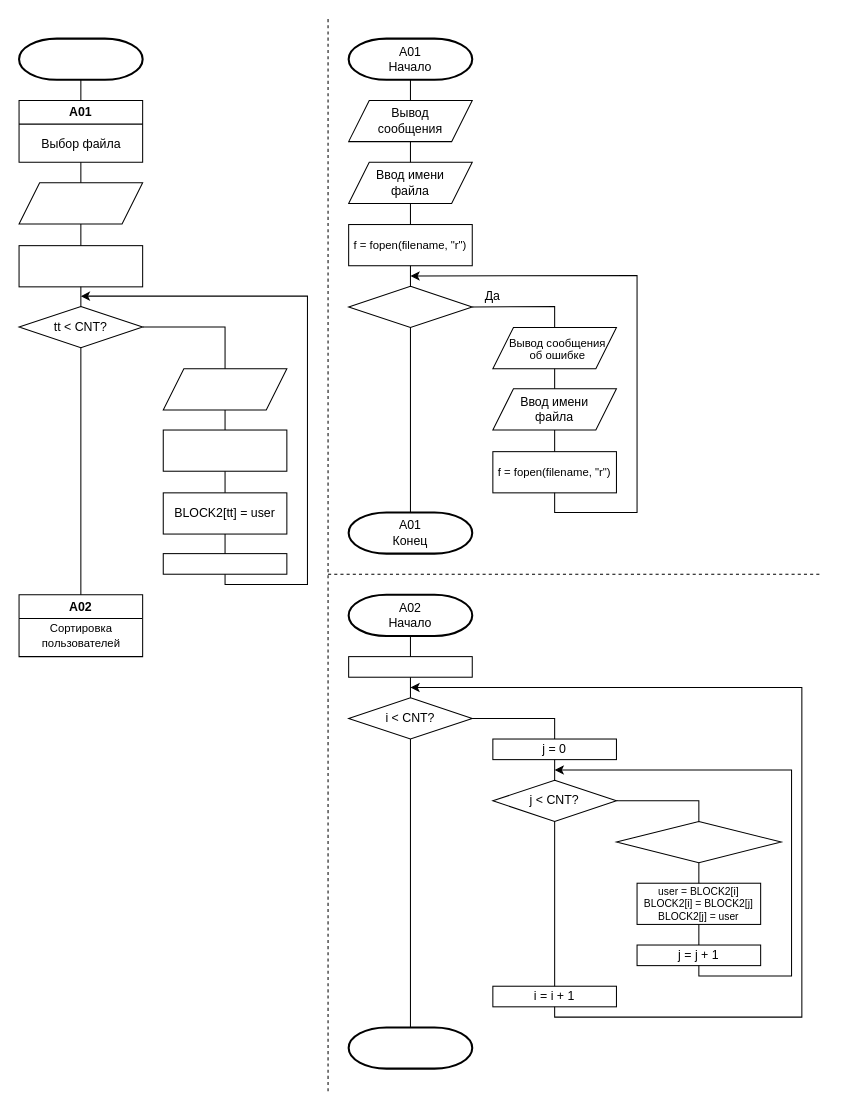
The diagram is 842 pixels wide and 1110 high, and some of its shapes have lost their labels. Here are the shapes that lost their labels. From the top down, the centre of each, then its label:
At point (80, 58): "Начало".
At point (80, 203): "Вывод описания программы".
At point (80, 266): "tt = 0, CNT = 7".
At point (410, 306): "Файл не открылся?".
At point (224, 389): "Ввод строчки".
At point (224, 450): "Присвоение полям user данных разделённых ;".
At point (224, 563): "tt = tt + 1".
At point (410, 666): "i = 0".
At point (698, 841): "!compare(BLOCK2[i].TELE, BLOCK2[j].TELE)?".
At point (410, 1047): "A02 Конец".
